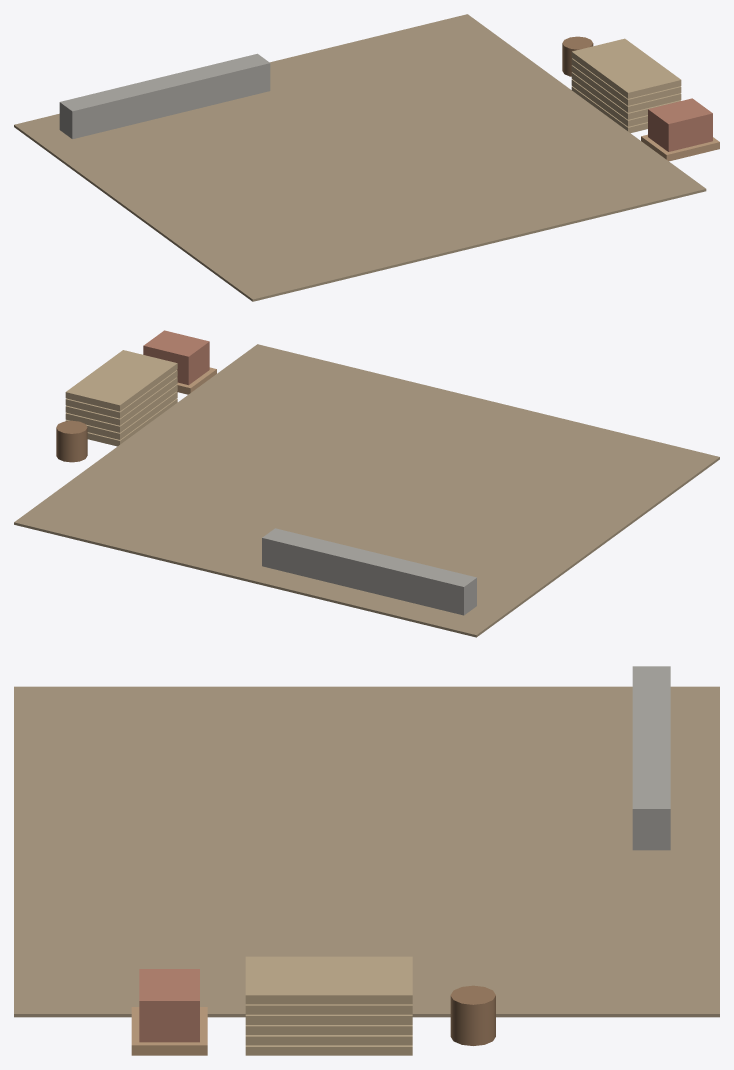
Rendered from garage_site_1.glb.
3 views of the same model, one above another, from view 1: azimuth 30°, elevation 25°; view 2: azimuth 150°, elevation 25°; view 3: azimuth 270°, elevation 25° (orthographic). The views are drawn at different scales.
Parts seen in each view (by area): view 1: body; view 2: body; view 3: body.
Boxes of the visible parts, <box> form: body: <box>14,14,719,301</box>; body: <box>14,330,719,637</box>; body: <box>14,666,719,1055</box>.
Size of the model in its own units: 2.28 by 0.176 by 1.86.
